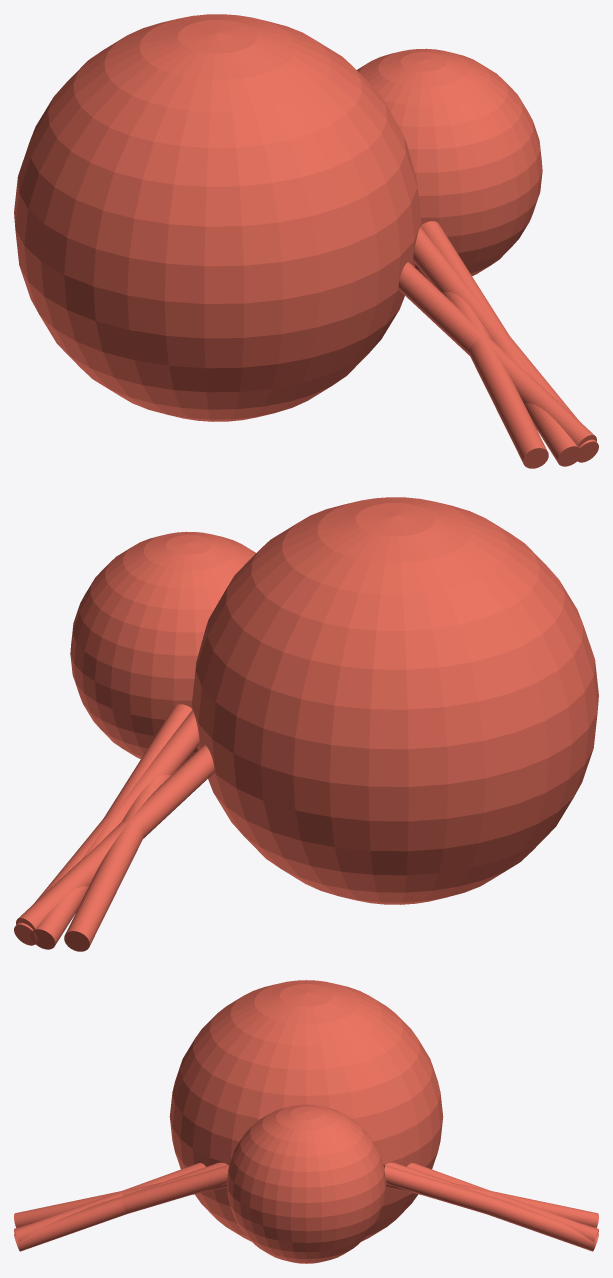
The model's file is spider_mite.glb.
3 views of the same model, one above another, from view 1: azimuth 30°, elevation 25°; view 2: azimuth 150°, elevation 25°; view 3: azimuth 270°, elevation 25° (orthographic). The views are drawn at different scales.
Parts seen in each view (by area): view 1: Sphere, Sphere.001, Cylinder, Cylinder.006, Cylinder.004, Cylinder.002; view 2: Sphere, Sphere.001, Cylinder.001, Cylinder.007, Cylinder.005, Cylinder.003; view 3: Sphere, Sphere.001, Cylinder.002, Cylinder.003, Cylinder.004, Cylinder.005, Cylinder, Cylinder.001, Cylinder.006, Cylinder.007.
Boxes of the visible parts, x1=… form: Sphere: x1=14, y1=14, x2=421, y2=421; Sphere.001: x1=357, y1=48, x2=542, y2=282; Cylinder: x1=398, y1=262, x2=596, y2=446; Cylinder.006: x1=441, y1=291, x2=548, y2=468; Cylinder.004: x1=420, y1=221, x2=582, y2=466; Cylinder.002: x1=413, y1=227, x2=598, y2=462; Sphere: x1=191, y1=497, x2=598, y2=904; Sphere.001: x1=70, y1=531, x2=255, y2=765; Cylinder.001: x1=16, y1=745, x2=214, y2=929; Cylinder.007: x1=64, y1=774, x2=171, y2=951; Cylinder.005: x1=30, y1=704, x2=192, y2=949; Cylinder.003: x1=14, y1=710, x2=199, y2=945; Sphere: x1=169, y1=980, x2=443, y2=1241; Sphere.001: x1=226, y1=1104, x2=386, y2=1263; Cylinder.002: x1=14, y1=1162, x2=227, y2=1251; Cylinder.003: x1=385, y1=1162, x2=598, y2=1251; Cylinder.004: x1=14, y1=1165, x2=229, y2=1234; Cylinder.005: x1=383, y1=1165, x2=598, y2=1234; Cylinder: x1=14, y1=1163, x2=205, y2=1241; Cylinder.001: x1=407, y1=1163, x2=598, y2=1241; Cylinder.006: x1=14, y1=1182, x2=226, y2=1227; Cylinder.007: x1=386, y1=1182, x2=598, y2=1227.
Bounding box in the file's own units: 0.165 × 0.12 × 0.2567.
